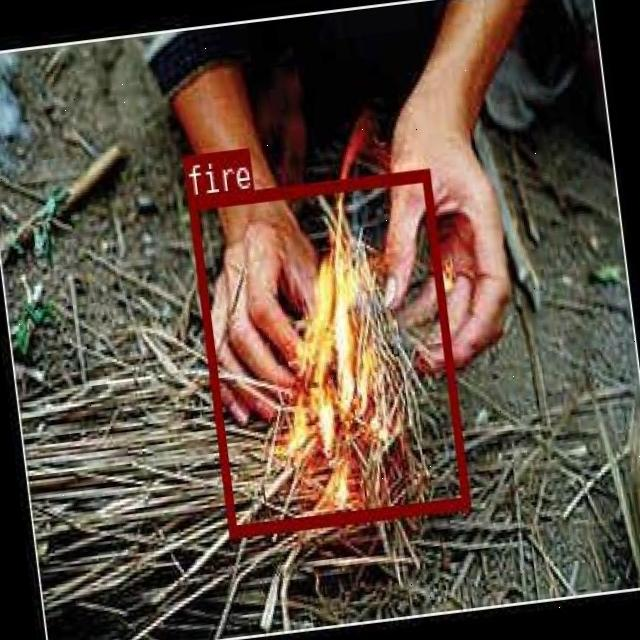fire: (187, 167, 468, 536)
